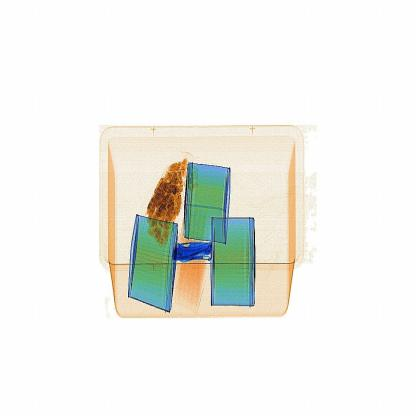knife: (166, 236, 221, 269)
